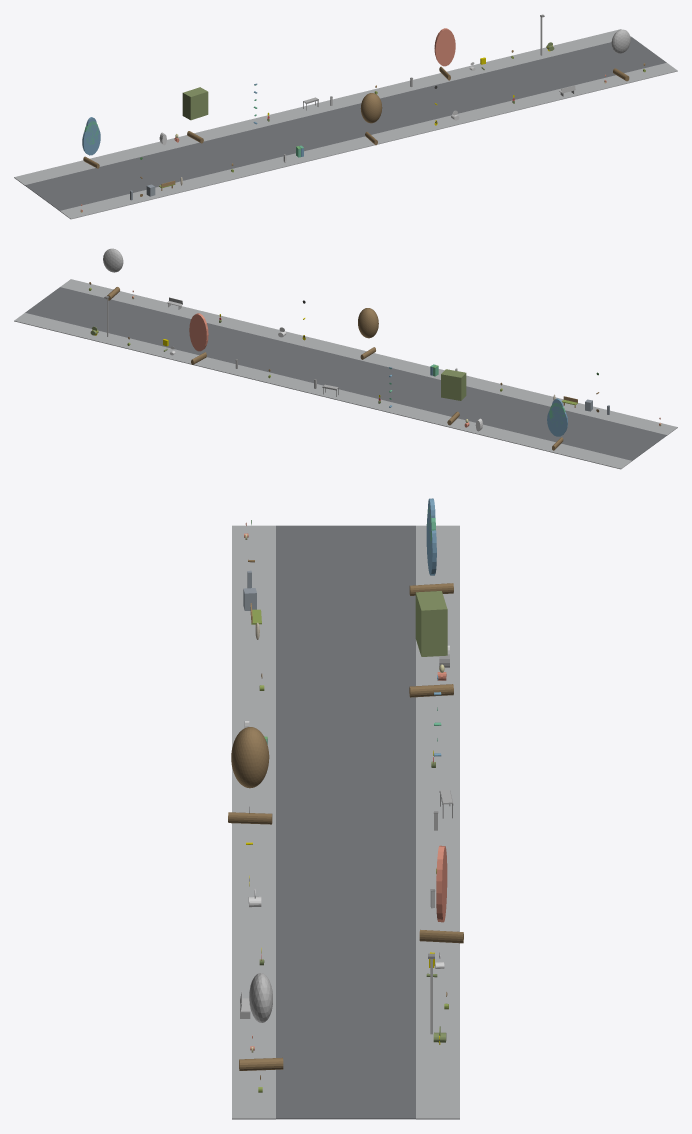
3 views of the same model, one above another, from view 1: azimuth 30°, elevation 25°; view 2: azimuth 150°, elevation 25°; view 3: azimuth 270°, elevation 25° (orthographic). The views are drawn at different scales.
Parts seen in each view (by area): view 1: road_slab, sidewalk_left, sidewalk_right, inst_0013, inst_0015, inst_0012, inst_0014, inst_0016; view 2: road_slab, sidewalk_right, sidewalk_left, inst_0013, inst_0015, inst_0012, inst_0014, inst_0016; view 3: road_slab, sidewalk_left, sidewalk_right, inst_0013, inst_0014, inst_0016, inst_0015, inst_0012.
Part boxes in pixels (x1,y1,x2,y2): road_slab: [25, 37, 666, 210]; sidewalk_left: [60, 63, 677, 219]; sidewalk_right: [14, 29, 631, 185]; inst_0013: [182, 87, 208, 143]; inst_0015: [434, 28, 455, 80]; inst_0012: [82, 117, 100, 168]; inst_0014: [360, 93, 382, 145]; inst_0016: [611, 29, 630, 81]; road_slab: [25, 287, 666, 460]; sidewalk_right: [14, 313, 631, 469]; sidewalk_left: [60, 279, 677, 435]; inst_0013: [441, 369, 466, 425]; inst_0015: [189, 313, 208, 364]; inst_0012: [547, 398, 567, 450]; inst_0014: [358, 308, 378, 359]; inst_0016: [103, 248, 123, 300]; road_slab: [276, 525, 415, 1119]; sidewalk_left: [232, 525, 275, 1119]; sidewalk_right: [416, 525, 459, 1119]; inst_0013: [409, 591, 453, 697]; inst_0014: [228, 727, 272, 824]; inst_0016: [239, 973, 283, 1070]; inst_0015: [419, 845, 463, 943]; inst_0012: [409, 498, 453, 595].
Size of the model in its own units: 80 by 6.08 by 13.46.
